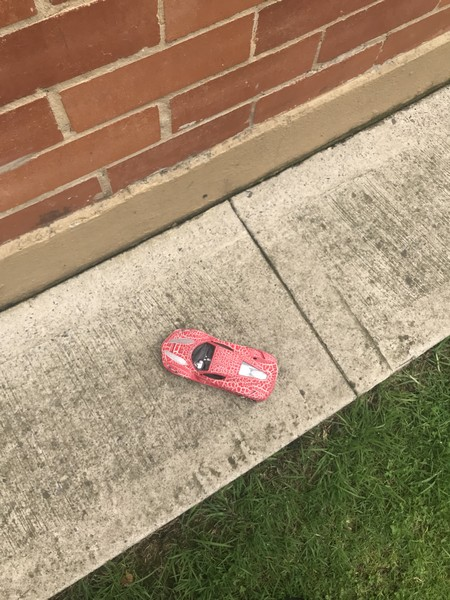RC: (158, 328, 279, 404)
